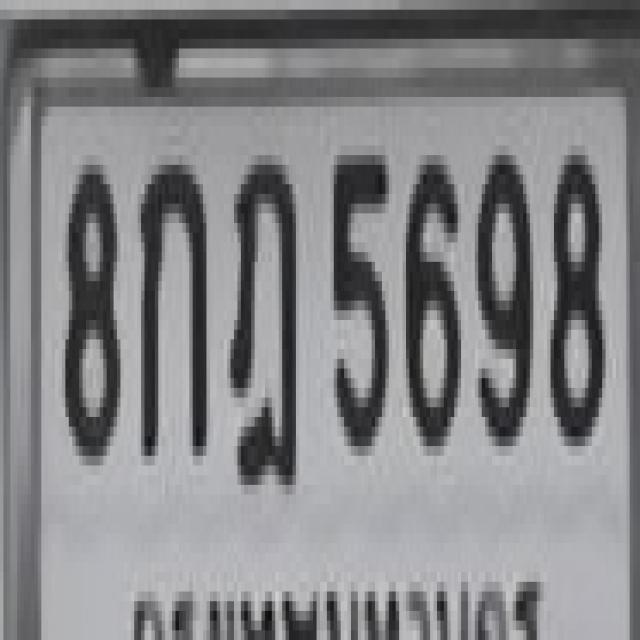5: (330, 146, 386, 446)
6: (402, 146, 458, 437)
8: (62, 155, 117, 456), (547, 146, 602, 437)
9: (475, 146, 530, 437)
A01: (138, 155, 206, 446)
A14: (227, 145, 296, 485)
